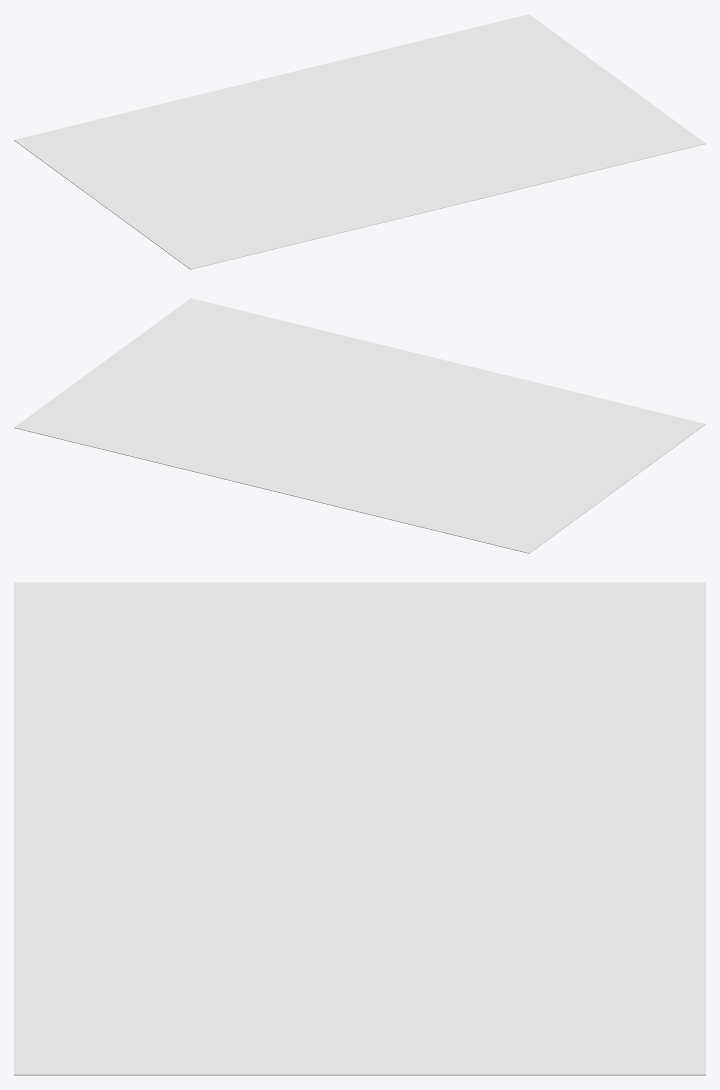
Rendered from Level 188 roll hydraulic press.fbx.
3 renders of one model, top to bottom at view 1: azimuth 30°, elevation 25°; view 2: azimuth 150°, elevation 25°; view 3: azimuth 270°, elevation 25°, orthographic. The views are drawn at different scales.
Parts seen in each view (by area): view 1: Blend; view 2: Blend; view 3: Blend.
Boxes of the visible parts, box(x1,y1,x2,y2) form: Blend: box(14, 14, 705, 269); Blend: box(14, 298, 705, 553); Blend: box(14, 582, 705, 1075).
Size of what is drawn, in the model's own units: 1039 by 1 by 617.
